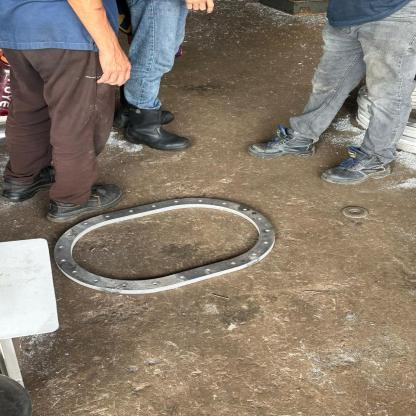bota: (39, 183, 139, 220), (317, 146, 397, 188), (246, 121, 318, 166), (126, 115, 197, 156), (0, 166, 39, 206)
